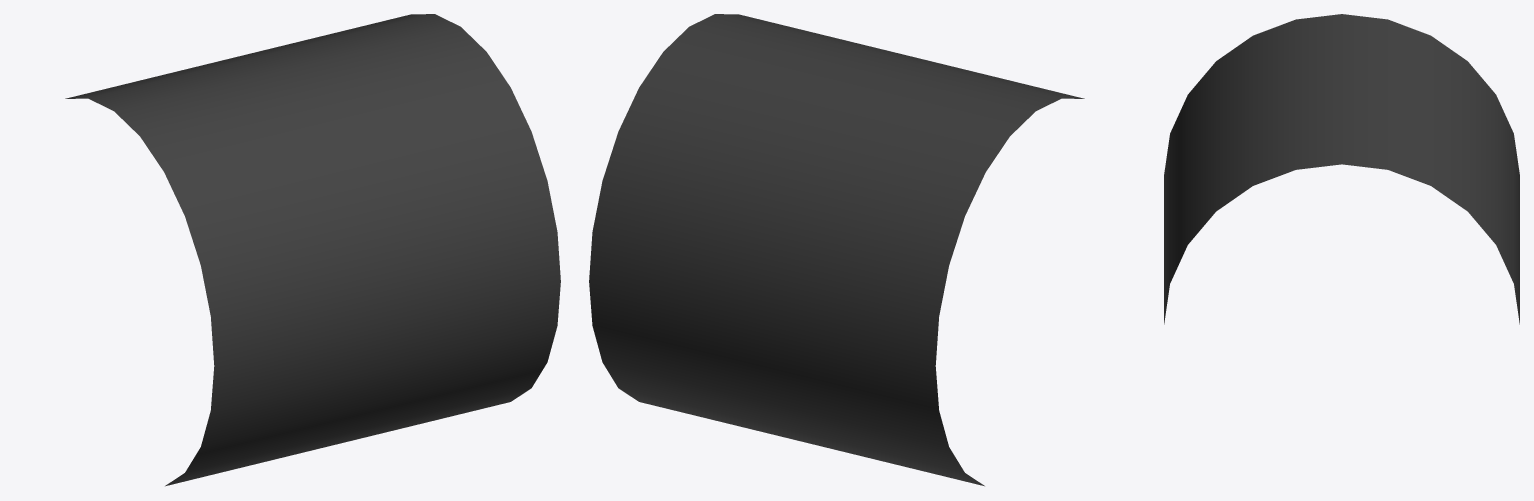
3 views of the same model, side by side, from view 1: azimuth 30°, elevation 25°; view 2: azimuth 150°, elevation 25°; view 3: azimuth 270°, elevation 25° (orthographic). The views are drawn at different scales.
Parts seen in each view (by area): view 1: 05992749a764_1_Cylinder01.obj; view 2: 05992749a764_1_Cylinder01.obj; view 3: 05992749a764_1_Cylinder01.obj.
Boxes of the visible parts, x1,y1,x2,y2 form: 05992749a764_1_Cylinder01.obj: [65, 14, 560, 486]; 05992749a764_1_Cylinder01.obj: [589, 14, 1084, 486]; 05992749a764_1_Cylinder01.obj: [1164, 14, 1519, 324].
Bounding box in the file's own units: 0.1 × 0.1 × 0.1.
Materials: 1 (1 with a texture image).
